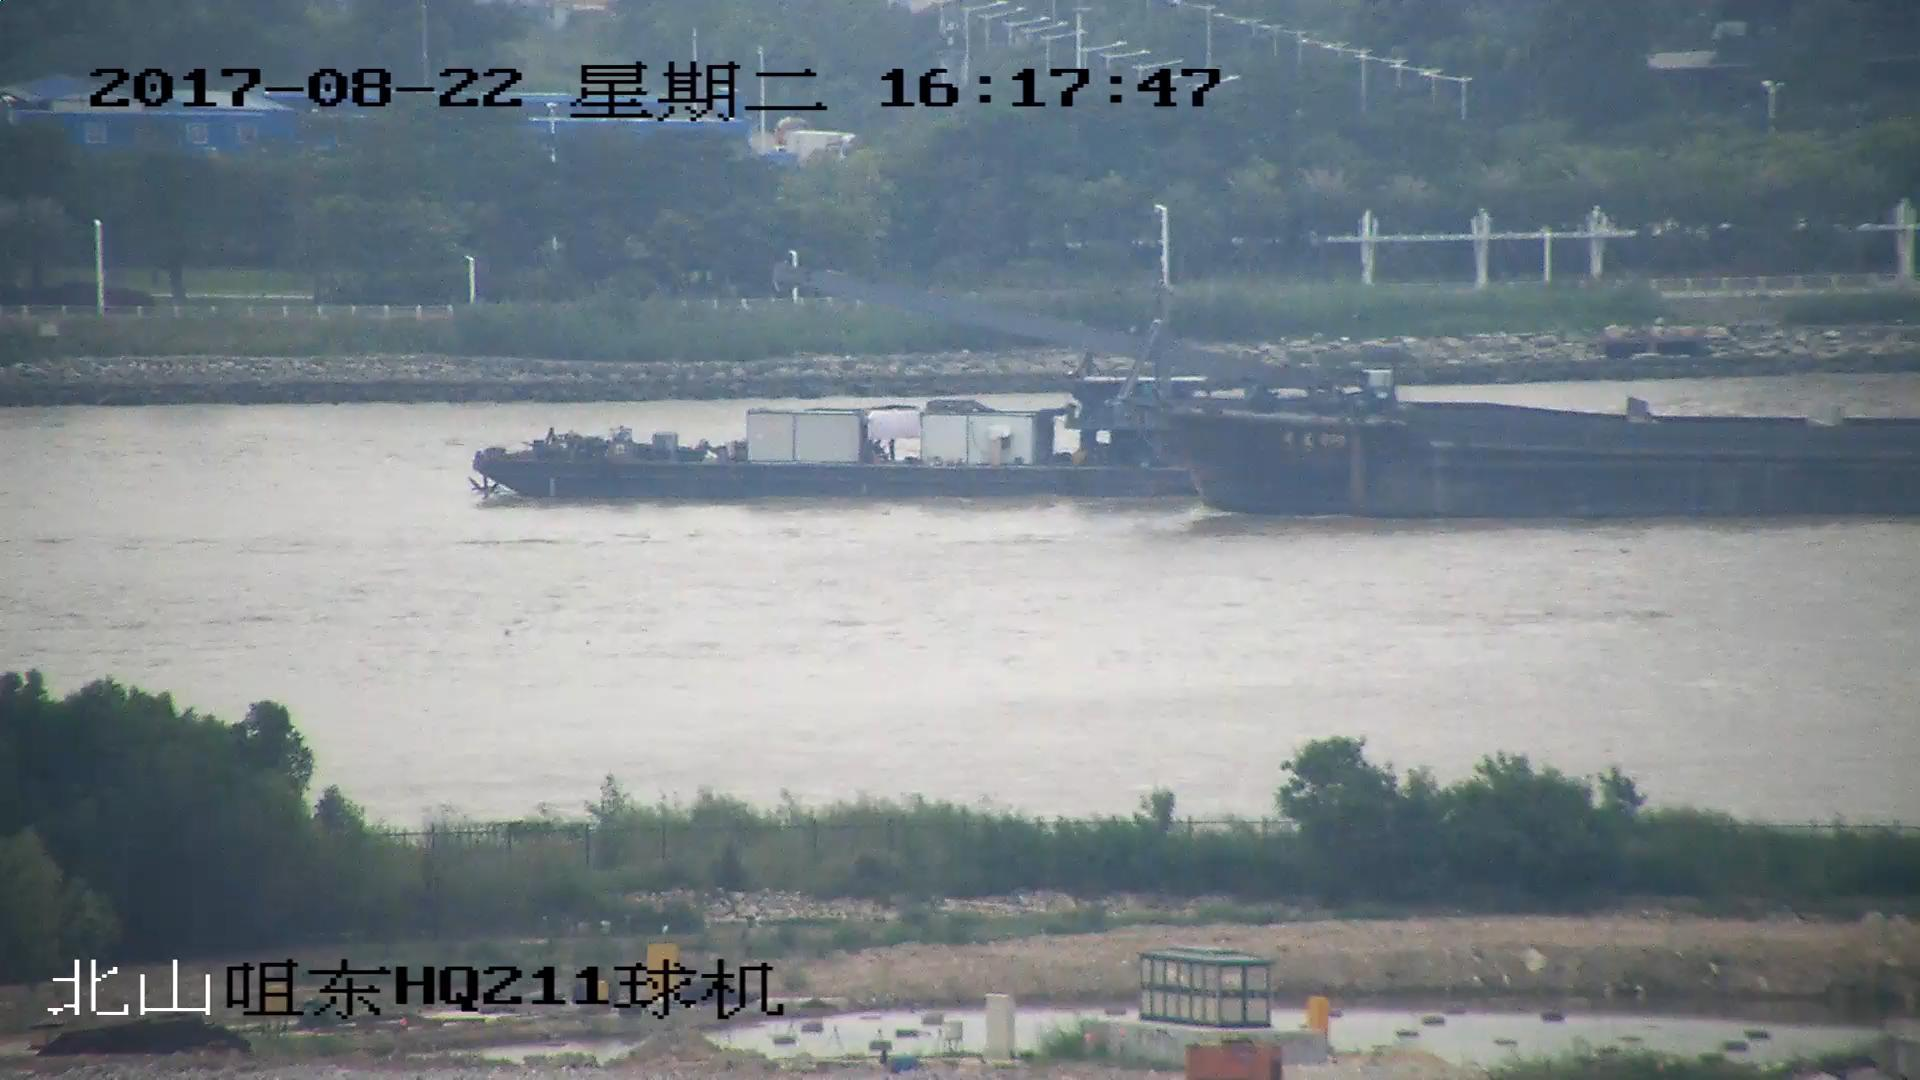Ship: (783, 266, 1920, 514), (464, 378, 1217, 508)
